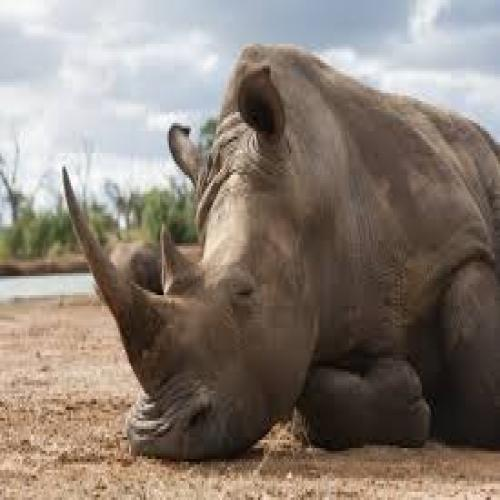rhino-endangered: (62, 45, 500, 460)
